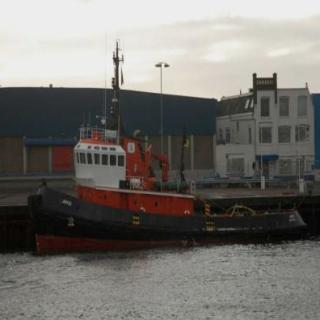Tug Boat: (0, 54, 319, 242)
